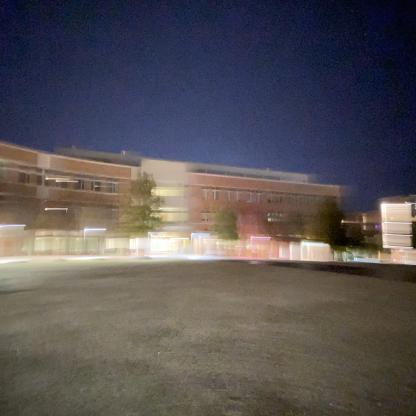eb2: (0, 132, 348, 267)
